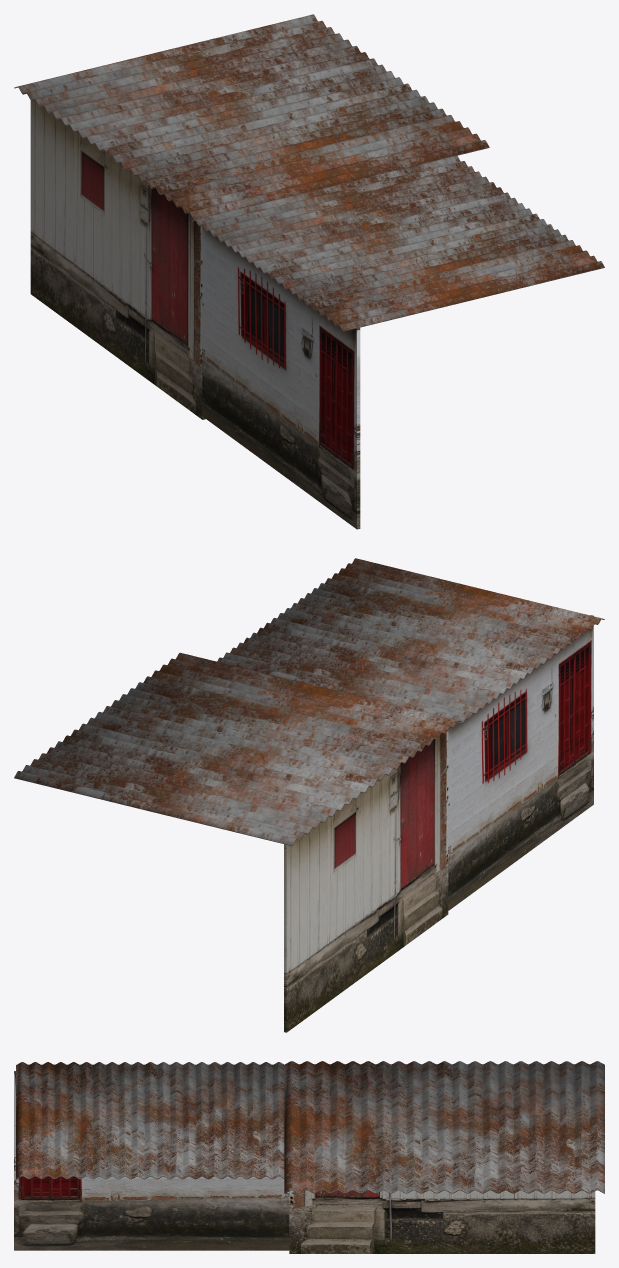
Rendered from casaA_derecha_03_04.fbx.
3 views of the same model, one above another, from view 1: azimuth 30°, elevation 25°; view 2: azimuth 150°, elevation 25°; view 3: azimuth 270°, elevation 25° (orthographic). The views are drawn at different scales.
Parts seen in each view (by area): view 1: CorrigatedPanel-2x2.006, CorrigatedPanel-2x2.005, casaA_derecha_04.001, casaA_derecha_03.001; view 2: CorrigatedPanel-2x2.006, CorrigatedPanel-2x2.005, casaA_derecha_04.001, casaA_derecha_03.001; view 3: CorrigatedPanel-2x2.006, CorrigatedPanel-2x2.005, casaA_derecha_03.001, casaA_derecha_04.001.
Part boxes in pixels (bbox=[...]): CorrigatedPanel-2x2.006: bbox=[14, 14, 489, 219]; CorrigatedPanel-2x2.005: bbox=[192, 155, 604, 331]; casaA_derecha_04.001: bbox=[30, 100, 205, 419]; casaA_derecha_03.001: bbox=[202, 225, 360, 529]; CorrigatedPanel-2x2.006: bbox=[14, 652, 461, 846]; CorrigatedPanel-2x2.005: bbox=[217, 558, 604, 723]; casaA_derecha_04.001: bbox=[284, 730, 448, 1032]; casaA_derecha_03.001: bbox=[448, 615, 593, 910]; CorrigatedPanel-2x2.006: bbox=[284, 1061, 604, 1193]; CorrigatedPanel-2x2.005: bbox=[16, 1062, 284, 1179]; casaA_derecha_03.001: bbox=[14, 1071, 289, 1250]; casaA_derecha_04.001: bbox=[289, 1190, 595, 1253].
Bounding box in the file's own units: 508 × 342 × 982.
